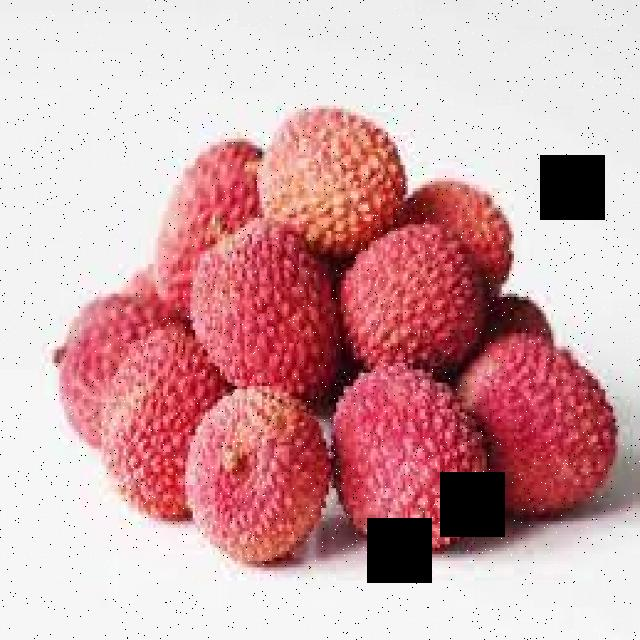lychee: (86, 113, 570, 570)
